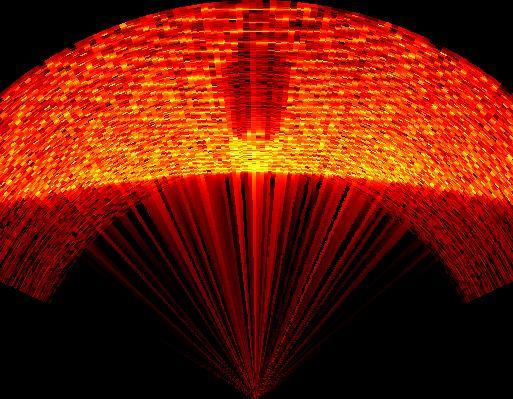box_crate: (222, 40, 292, 146)
